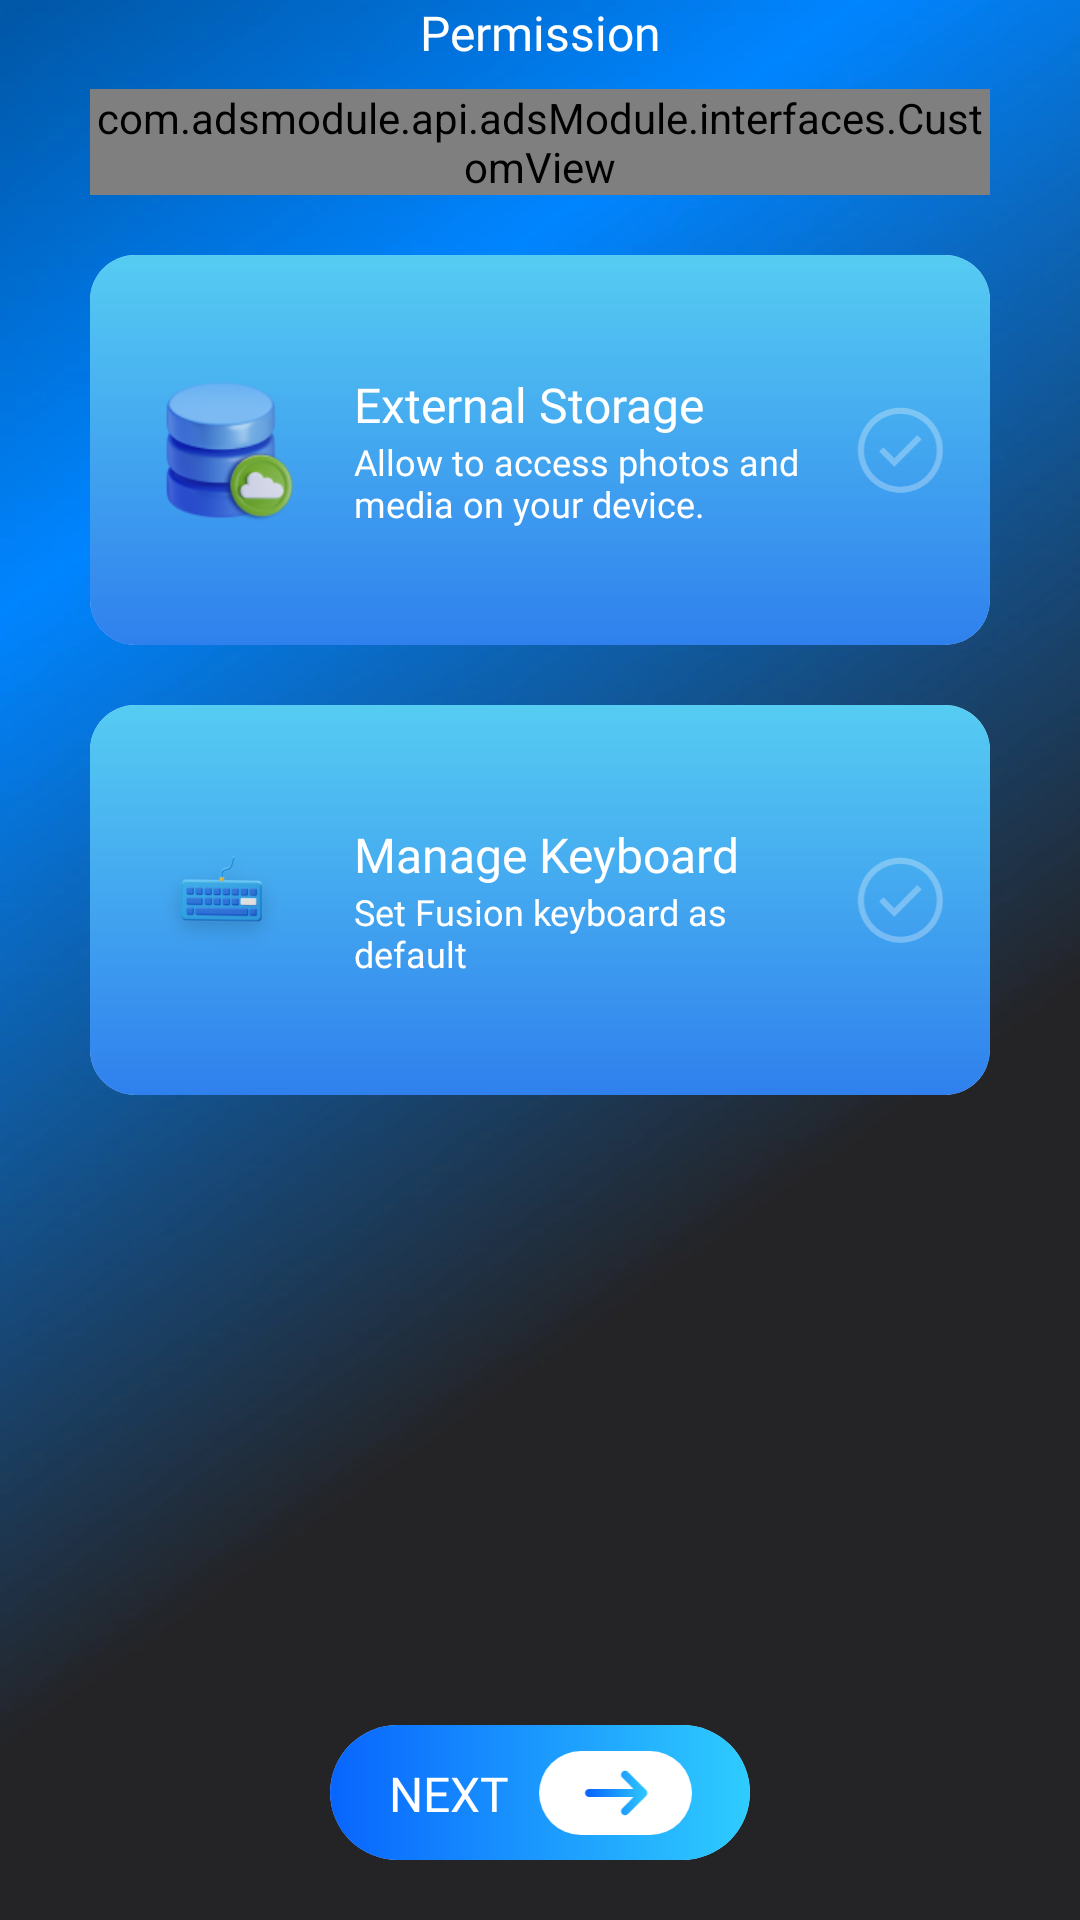

Screen size 1080×1920. Icon name, then its box in pixels as {"x1": x1, "y1": y1, "x2": x2, "y2": y2}:
check confirm: {"x1": 858, "y1": 408, "x2": 943, "y2": 493}, {"x1": 858, "y1": 858, "x2": 943, "y2": 943}
cloud permission storage: {"x1": 150, "y1": 384, "x2": 294, "y2": 522}
